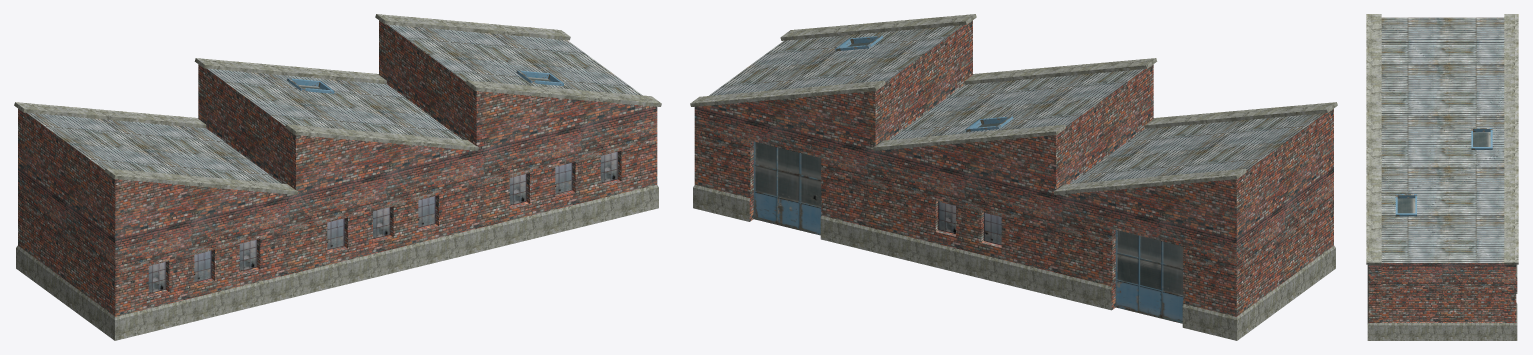
Rendered from building_8_lod1.DAE.
3 renders of one model, left to right at view 1: azimuth 30°, elevation 25°; view 2: azimuth 150°, elevation 25°; view 3: azimuth 270°, elevation 25°, orthographic. The views are drawn at different scales.
Parts seen in each view (by area): view 1: Mesh_Object; view 2: Mesh_Object; view 3: Mesh_Object.
Part boxes in pixels (box(x1,y1,x2,y2)): Mesh_Object: box(14, 14, 661, 340); Mesh_Object: box(690, 14, 1337, 340); Mesh_Object: box(1366, 14, 1518, 340).
Size of the model in its own units: 63.24 by 18.32 by 20.1.
